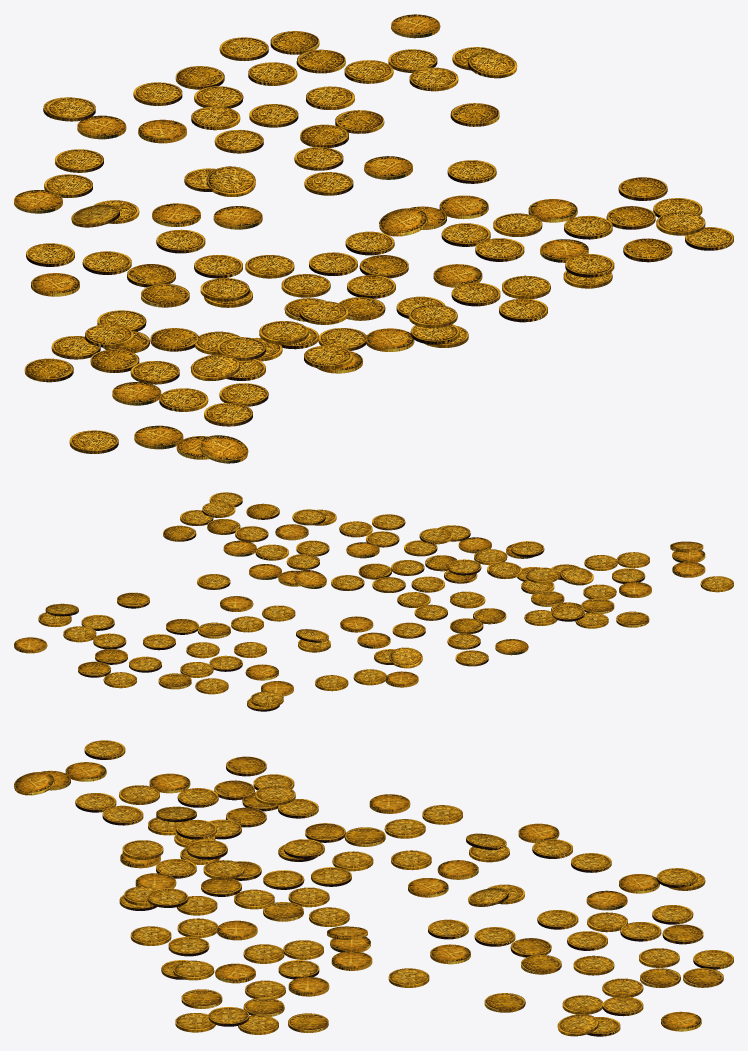
File: coins.FBX
3 views of the same model, one above another, from view 1: azimuth 30°, elevation 25°; view 2: azimuth 150°, elevation 25°; view 3: azimuth 270°, elevation 25° (orthographic). The views are drawn at different scales.
Visible parts, largest first — view 1: coins2; view 2: coins2; view 3: coins2.
Boxes of the visible parts, left/top/right/bottom form: coins2: left=14, top=14, right=733, bottom=463; coins2: left=14, top=492, right=733, bottom=711; coins2: left=14, top=740, right=733, bottom=1036.
Size of the model in its own units: 1.05 by 1.08 by 0.0149.
